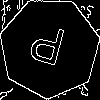P: (24, 22, 68, 76)
